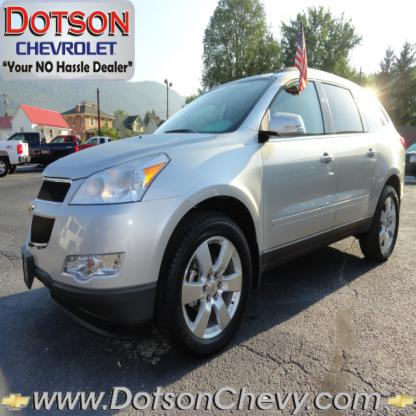car: (18, 62, 410, 366)
